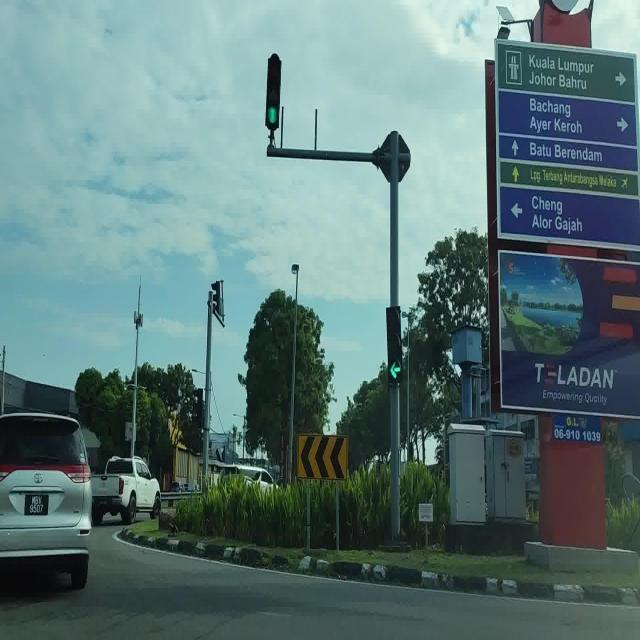green_light: (265, 53, 282, 130), (386, 306, 402, 383)
